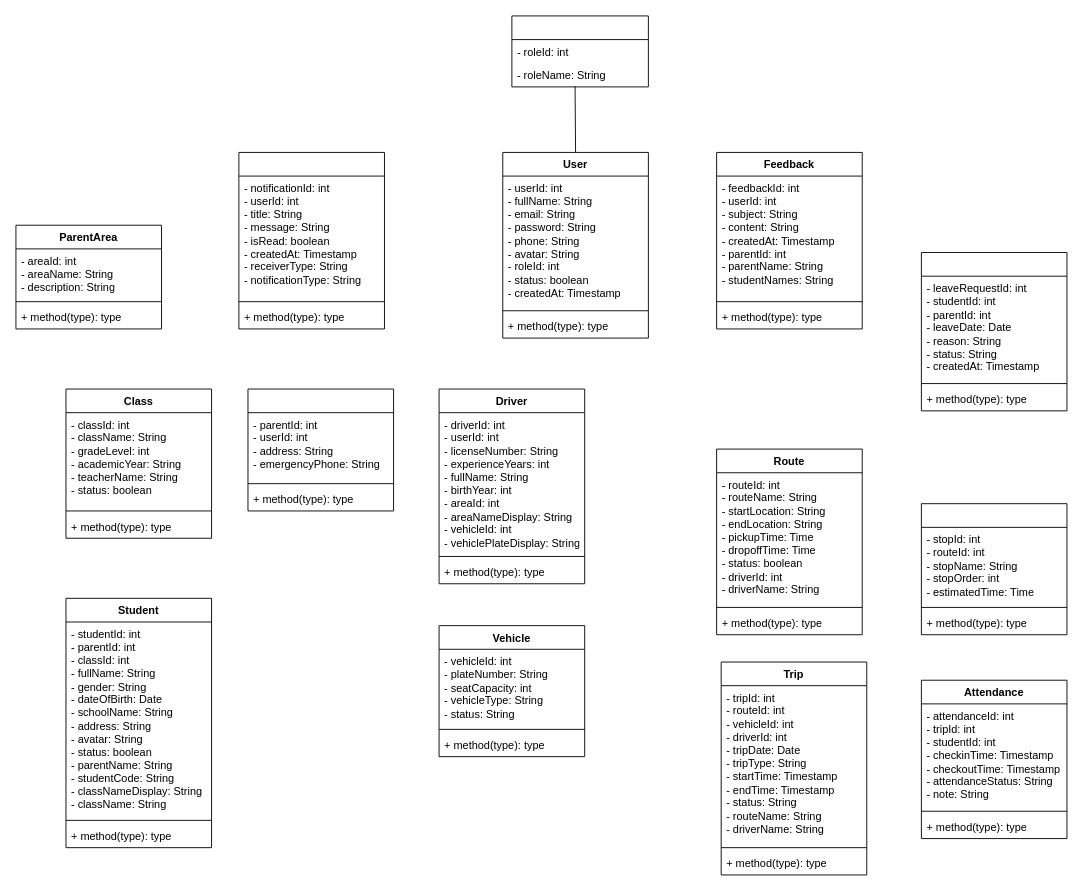
This 1083x894 diagram has some shape labels left out. Each missing label, with the box of its shape:
LeavesRequest: (920, 252, 1067, 411)
Nofitication: (238, 152, 384, 329)
Parents: (247, 388, 394, 511)
Roles: (511, 15, 648, 87)
RouteStop: (920, 503, 1067, 635)
